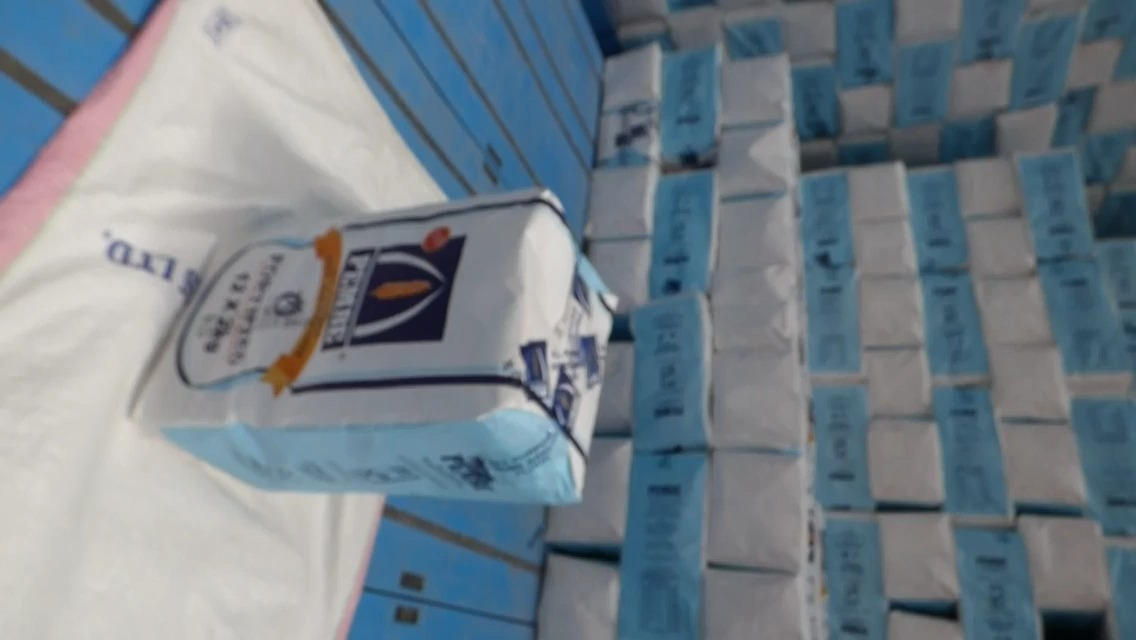wheat_flour_blue_label: (143, 190, 624, 504)
